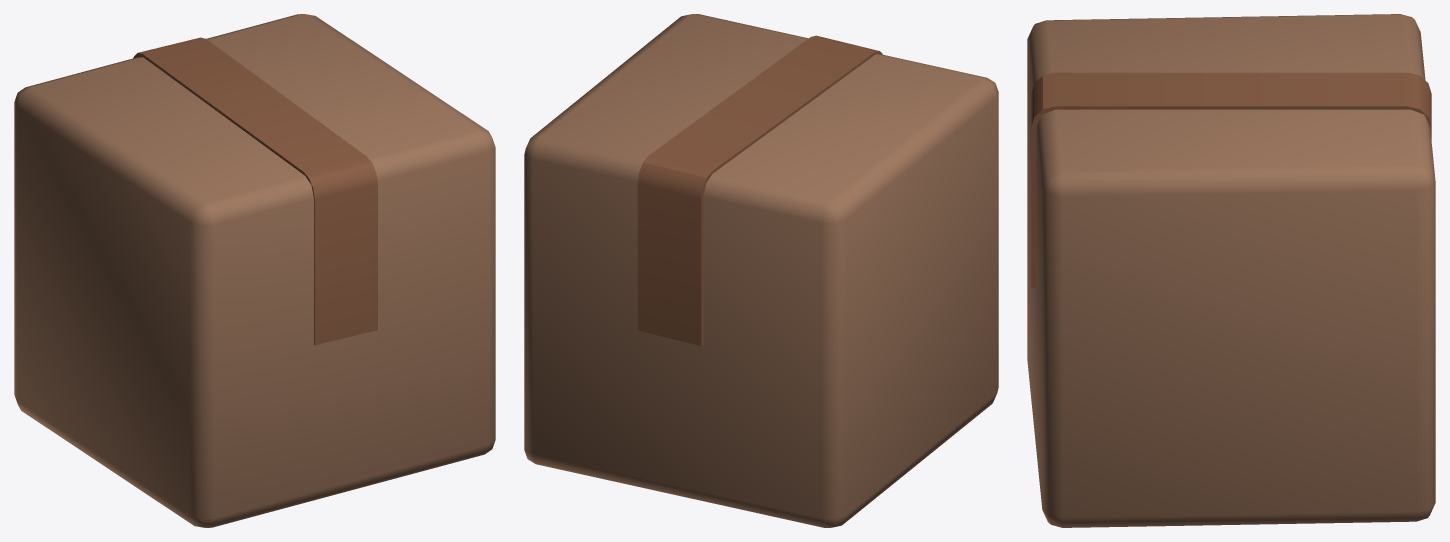
3 views of the same model, side by side, from view 1: azimuth 30°, elevation 25°; view 2: azimuth 150°, elevation 25°; view 3: azimuth 270°, elevation 25° (orthographic). The views are drawn at different scales.
Visible parts, largest first — view 1: Cube.046, Cube.009; view 2: Cube.046, Cube.009; view 3: Cube.046, Cube.009.
Part boxes in pixels (box(x1,y1,x2,y2)): Cube.046: box(14, 14, 495, 527); Cube.009: box(133, 37, 377, 345); Cube.046: box(524, 14, 998, 527); Cube.009: box(637, 35, 882, 345); Cube.046: box(1027, 14, 1435, 527); Cube.009: box(1031, 72, 1431, 287).
Bounding box in the file's own units: 38.8 × 37.74 × 38.8.
